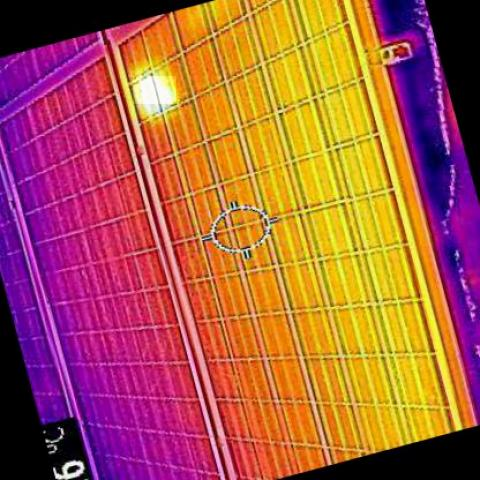fault: (133, 76, 176, 104)
